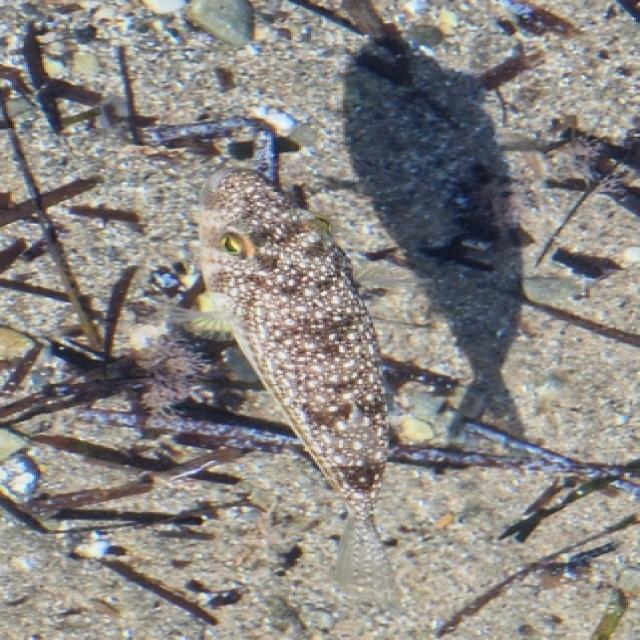Balik: (200, 168, 396, 605)
